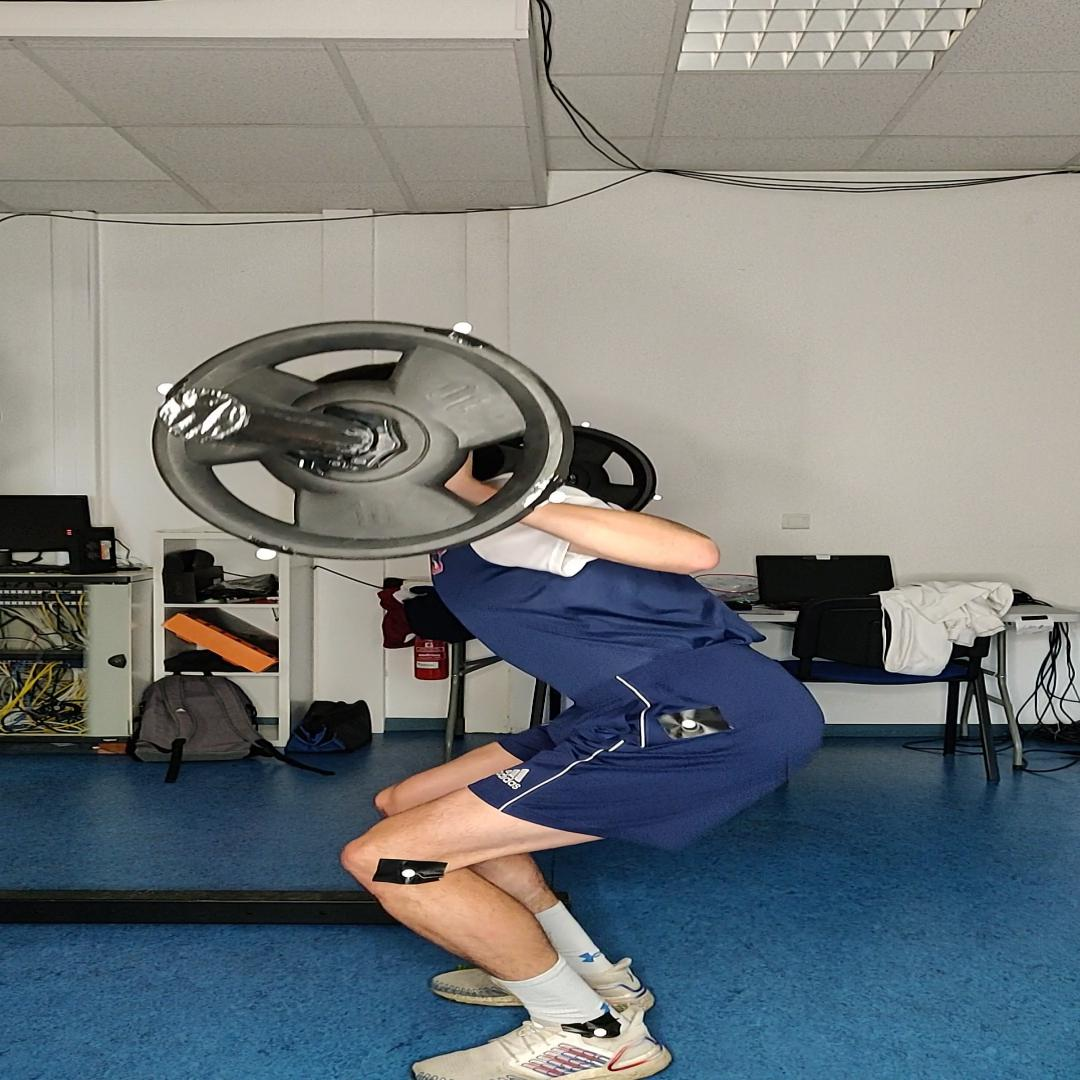Bar: (158, 388, 252, 443)
Barbell: (153, 319, 574, 560)
